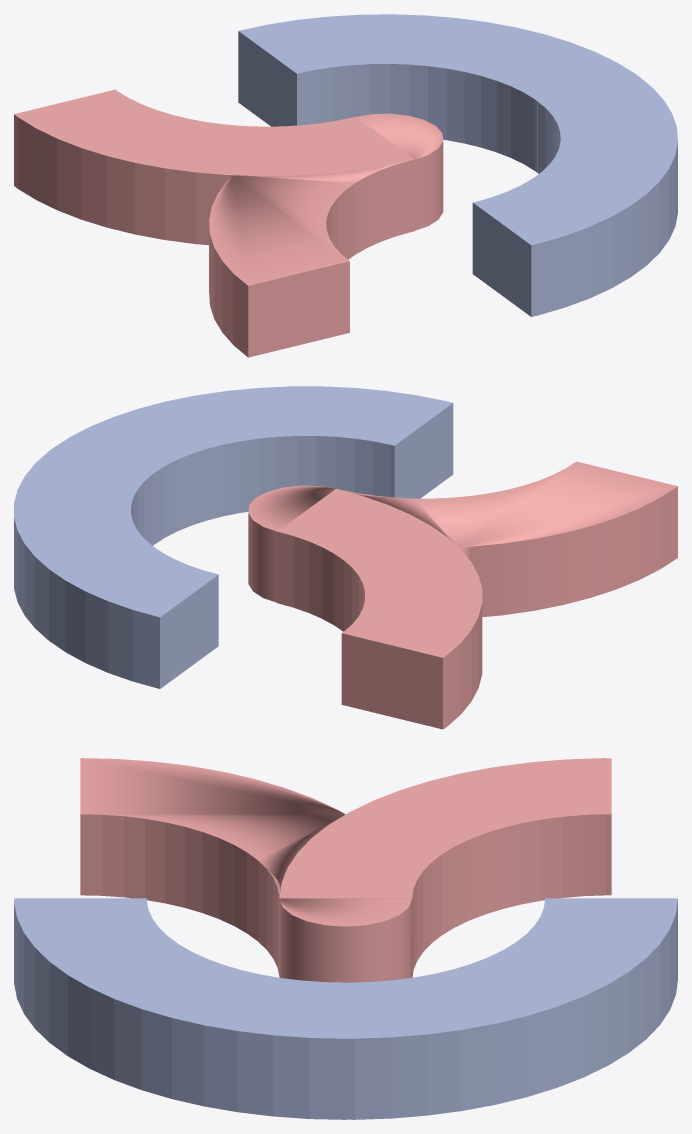
The picture shows the model from 3 angles, top to bottom: view 1: azimuth 30°, elevation 25°; view 2: azimuth 150°, elevation 25°; view 3: azimuth 270°, elevation 25°; orthographic projection. The views are drawn at different scales.
Parts seen in each view (by area): view 1: Puzzle_1; view 2: Puzzle_1; view 3: Puzzle_1.
Part boxes in pixels (bbox=[...]): Puzzle_1: bbox=[14, 14, 677, 357]; Puzzle_1: bbox=[14, 386, 677, 729]; Puzzle_1: bbox=[14, 758, 677, 1119].
Size of the model in its own units: 1000 by 135 by 1000.
